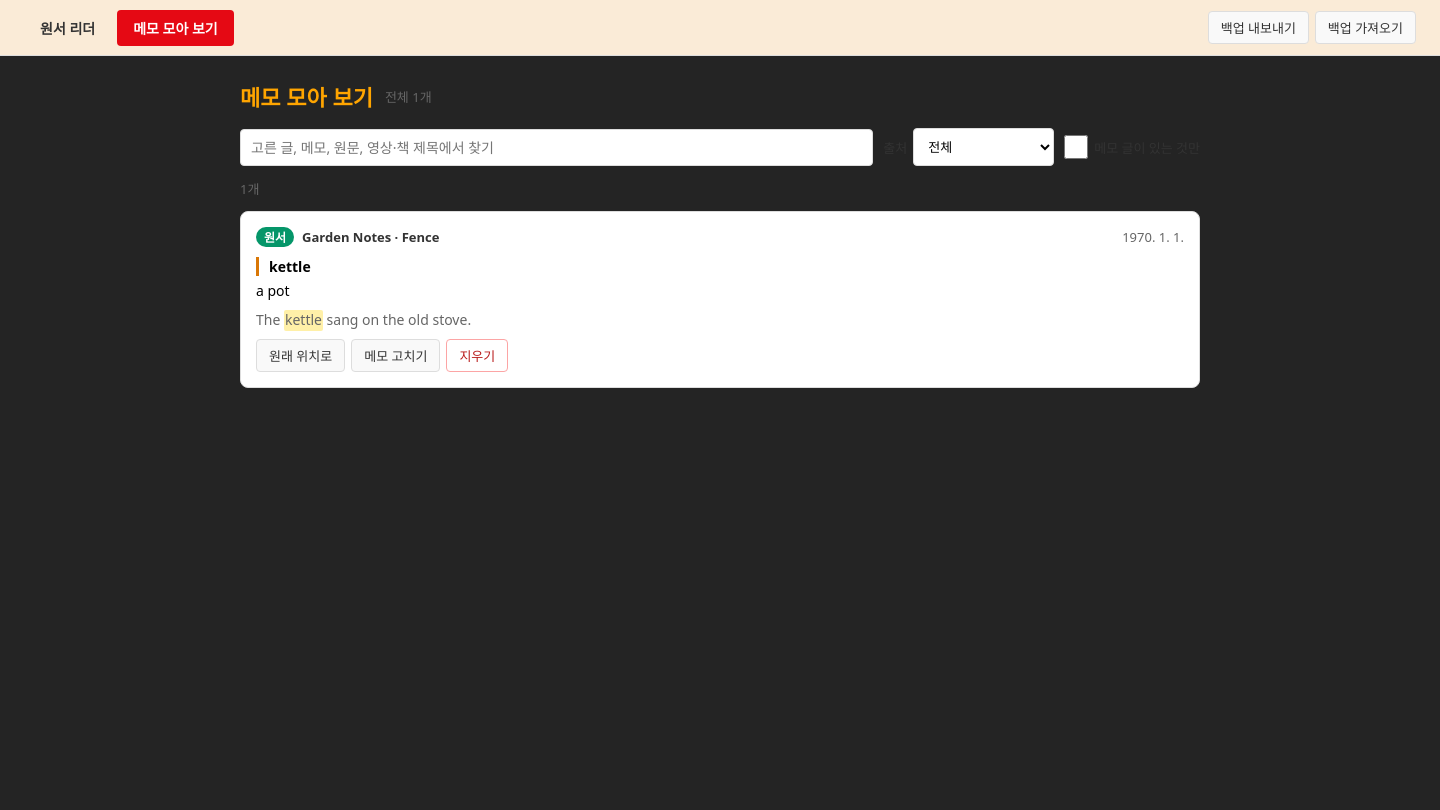
Test: Reader App › 4.5-5 모아 보기에서 원서 메모의 "원래 위치로"를 누르면 리더가 그 장을 열고 그 하이라이트로 스크롤해 메모 영역을 연다
This screenshot has width=1440, height=810.
Click the button "원래 위치로".
click(301, 356)  # box [256,339,345,372]
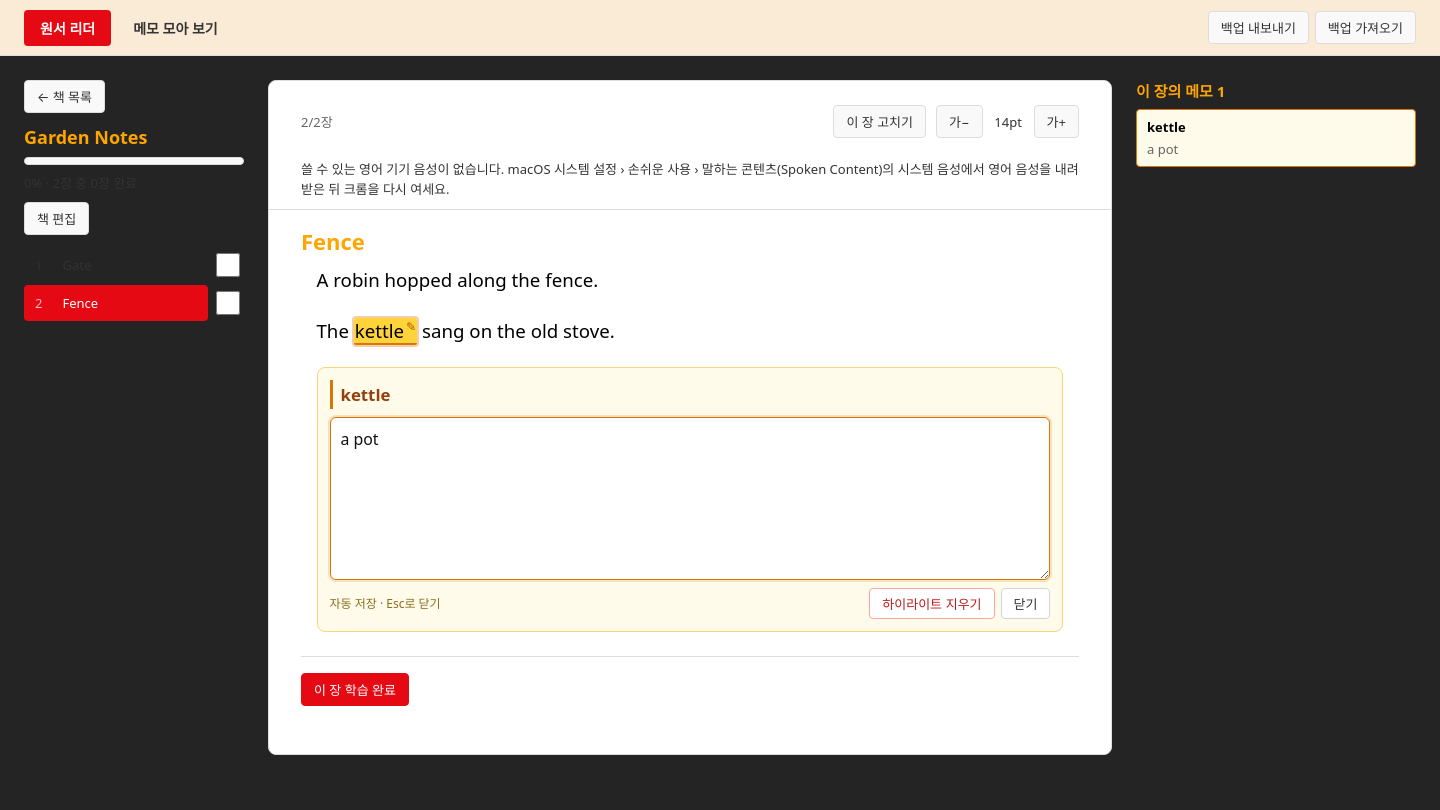
Expected: the element showing "kettle" is shown, [354,318,417,345]
Now the heading "Fence" is shown, box [301,226,365,256]
Now the text box named "메모" holds "a pot", box [330,417,1050,580]
